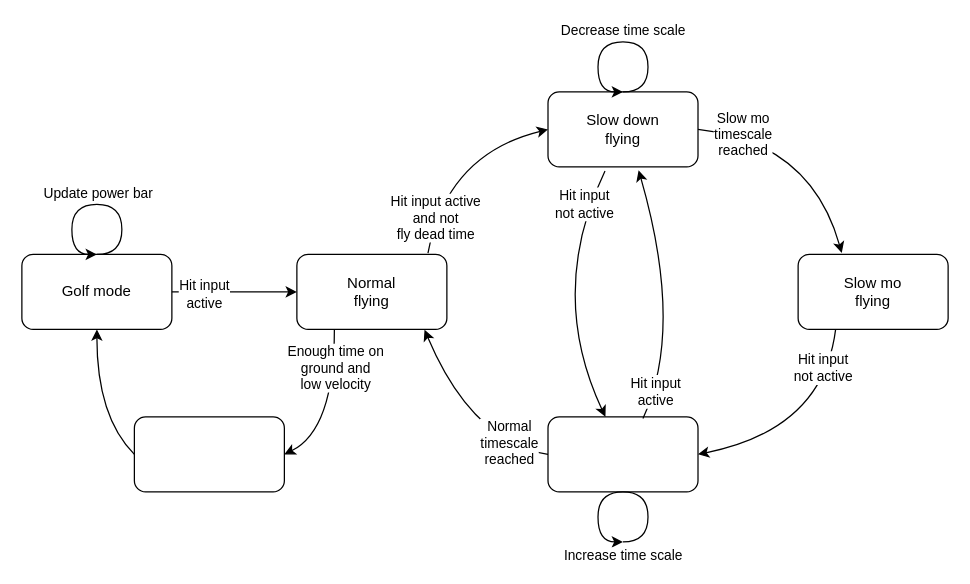
Some shapes in this 970 by 584 pixel diagram are drawn without their labels. Here are the shapes that lost their labels. From the top down, the centre of each, then its label:
[208,454]: To golf mode
[622,454]: Speed up flying
